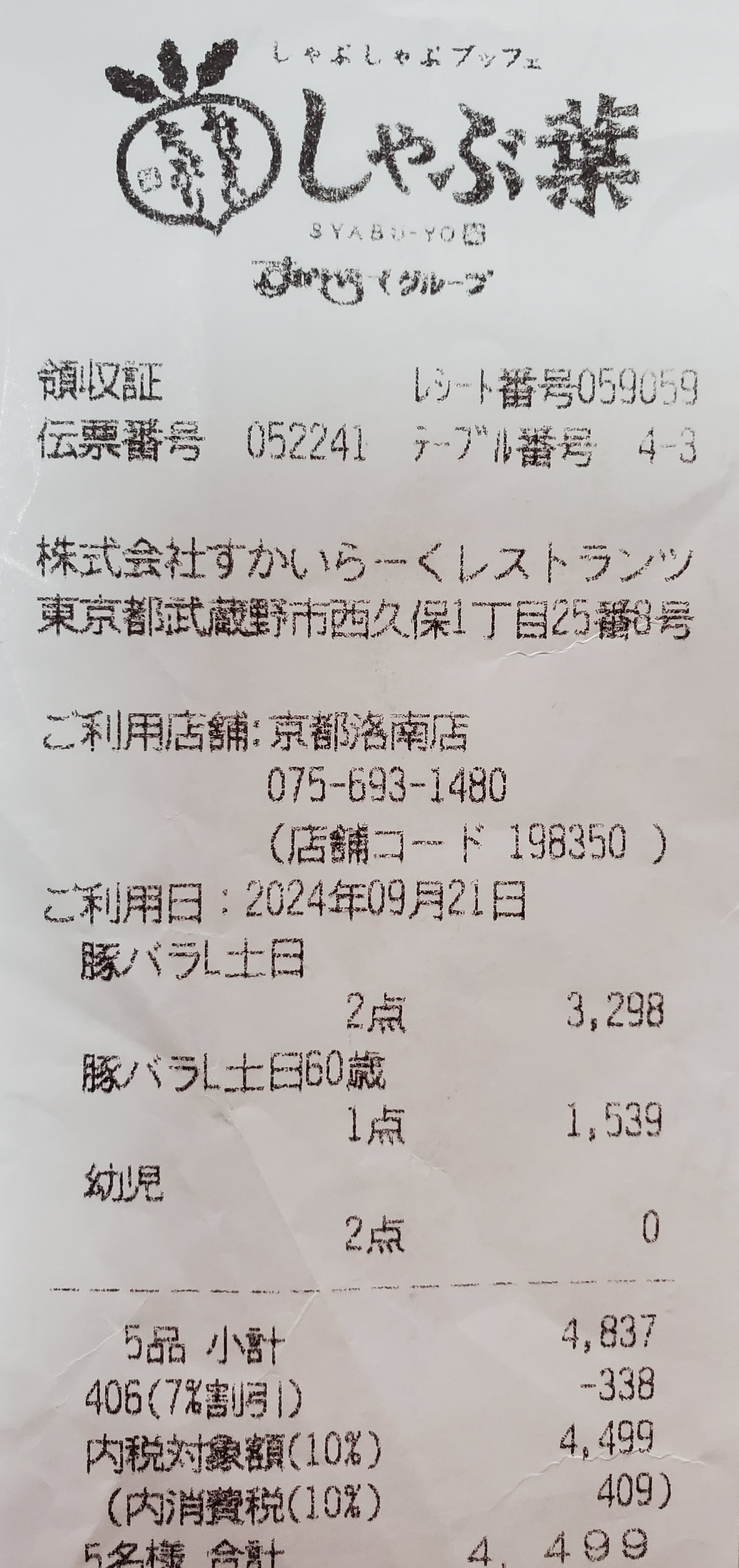Date: (237, 866, 541, 928)
Shopname: (290, 78, 671, 226)
Telnum: (257, 759, 525, 808)
Totalpay: (200, 1524, 680, 1568)
